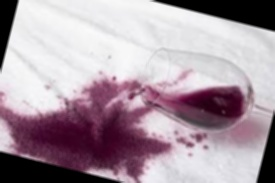wine: (0, 97, 155, 183), (64, 68, 182, 165)
